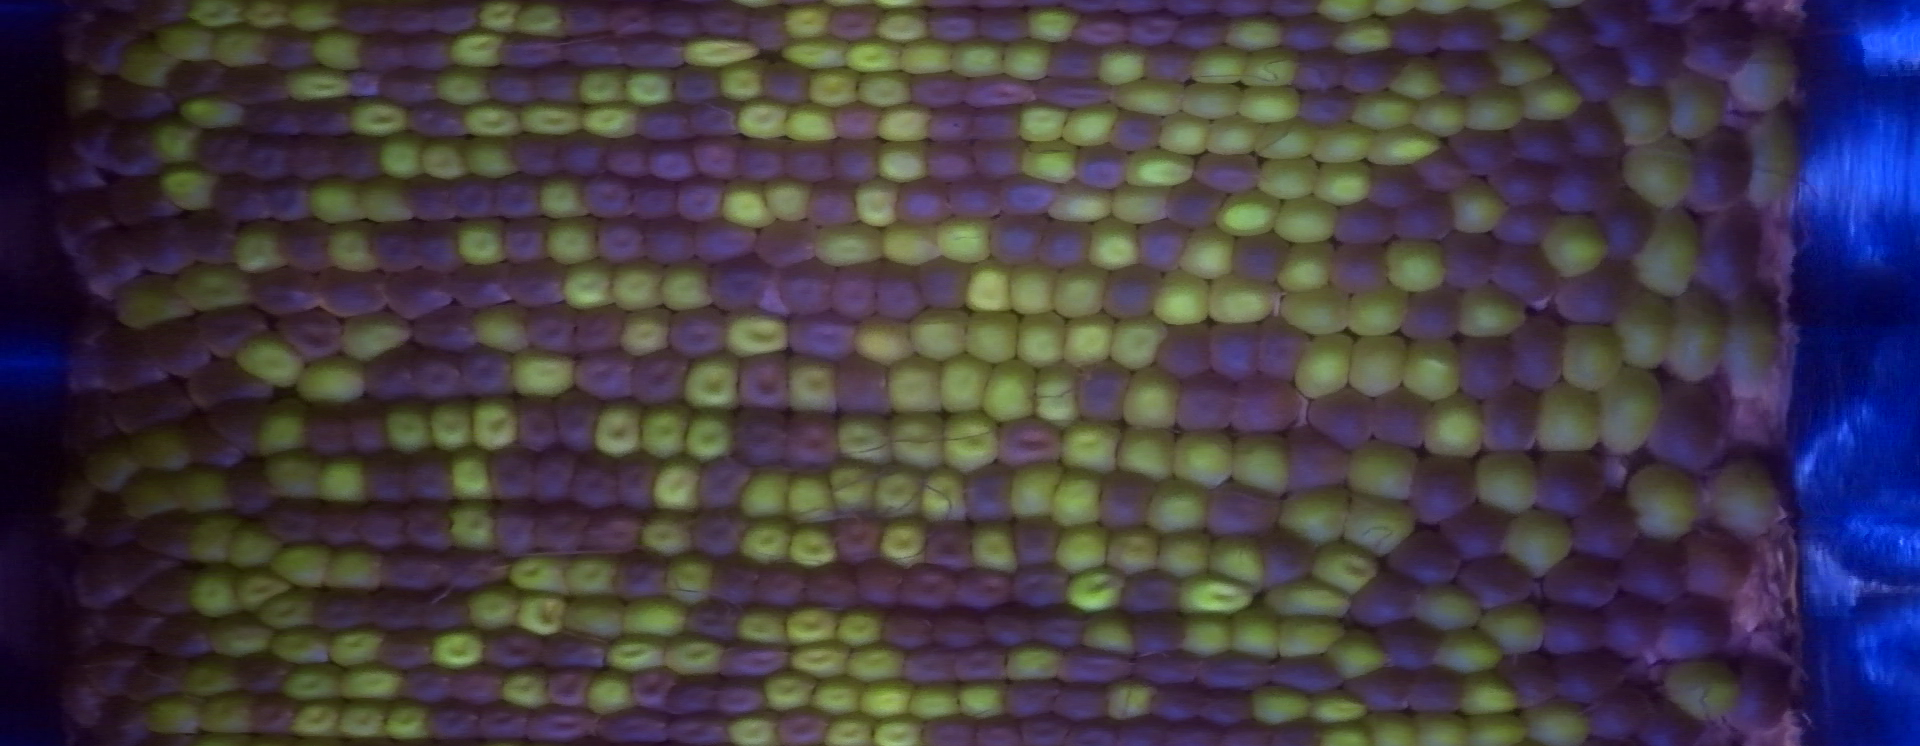fluorescent: (1704, 451, 1785, 545), (1622, 457, 1711, 543), (1633, 206, 1709, 300), (1735, 111, 1805, 212), (1596, 369, 1665, 462), (1667, 288, 1731, 387), (1340, 488, 1420, 567), (1613, 140, 1700, 212), (1728, 288, 1787, 394), (1729, 34, 1804, 116), (1341, 432, 1424, 505), (1660, 658, 1747, 725), (1411, 390, 1487, 463), (1536, 381, 1608, 458), (1502, 503, 1575, 579), (1613, 289, 1680, 370), (105, 274, 200, 332), (1537, 209, 1611, 282), (1559, 317, 1629, 394), (1664, 69, 1730, 145), (1469, 453, 1543, 521), (1229, 428, 1296, 502), (1272, 484, 1354, 544), (936, 408, 1002, 481), (231, 330, 312, 390), (1603, 85, 1678, 149), (1260, 576, 1360, 624), (1116, 364, 1185, 432), (1111, 418, 1180, 486), (1275, 283, 1360, 338), (1346, 332, 1411, 404), (1167, 430, 1245, 489), (504, 342, 582, 401), (1398, 338, 1469, 402), (1307, 538, 1382, 595), (1142, 477, 1213, 538), (1381, 234, 1452, 295), (1453, 279, 1527, 338), (1362, 121, 1447, 171), (289, 355, 369, 409), (882, 410, 950, 473), (587, 393, 648, 463), (168, 263, 255, 312), (932, 352, 997, 416), (1444, 173, 1511, 235), (1026, 360, 1086, 430), (721, 305, 793, 363), (70, 437, 147, 491), (1149, 267, 1213, 331), (978, 359, 1041, 425), (1473, 601, 1548, 657), (262, 541, 338, 595), (1318, 628, 1393, 682), (1198, 533, 1270, 589), (907, 303, 972, 365), (1059, 412, 1122, 477), (313, 450, 375, 516), (958, 307, 1025, 367), (1205, 271, 1280, 325), (334, 312, 418, 360), (883, 356, 949, 416), (1273, 236, 1342, 294), (1453, 668, 1528, 720), (680, 353, 743, 414), (1106, 312, 1171, 372), (1048, 464, 1107, 530), (1047, 265, 1116, 321), (660, 628, 730, 684), (553, 590, 632, 639), (847, 314, 918, 367), (1168, 576, 1260, 617), (1509, 77, 1591, 124), (1210, 187, 1284, 238), (1007, 458, 1067, 521), (784, 353, 842, 416), (871, 459, 929, 523), (782, 464, 841, 528), (538, 211, 604, 267), (1011, 309, 1067, 376), (126, 425, 196, 478), (680, 404, 740, 465), (1176, 225, 1242, 281), (467, 390, 520, 457), (637, 398, 691, 465), (424, 394, 481, 457), (1294, 337, 1352, 399), (200, 614, 274, 661), (168, 462, 234, 516), (1075, 608, 1141, 661), (1429, 627, 1510, 671), (1344, 285, 1412, 338), (320, 541, 388, 593), (718, 174, 779, 232), (616, 305, 677, 363), (1411, 582, 1484, 630), (1518, 698, 1592, 746), (876, 218, 947, 267), (1003, 263, 1062, 322), (1051, 521, 1109, 579), (1271, 197, 1343, 245), (358, 173, 419, 229), (834, 412, 896, 467), (918, 465, 972, 529), (264, 450, 328, 503), (838, 642, 911, 688), (1244, 680, 1318, 726), (1102, 526, 1168, 577), (1275, 610, 1349, 655), (650, 454, 708, 513), (1082, 217, 1144, 272), (257, 394, 311, 457), (109, 472, 178, 521), (266, 624, 342, 668), (1013, 138, 1082, 186), (1062, 563, 1128, 614), (662, 551, 721, 608), (733, 514, 793, 570), (157, 164, 224, 213), (184, 510, 245, 563), (471, 303, 534, 355), (878, 512, 931, 575), (1462, 88, 1531, 136), (1309, 158, 1378, 206), (1117, 148, 1198, 189), (655, 262, 720, 312), (230, 219, 288, 276), (966, 521, 1024, 577), (616, 593, 689, 637), (1226, 606, 1284, 661), (560, 258, 620, 312), (444, 496, 498, 556), (558, 551, 629, 597), (1305, 118, 1378, 162), (823, 459, 880, 514), (175, 93, 253, 134), (1185, 44, 1255, 89), (119, 40, 180, 92), (142, 118, 203, 169), (1042, 183, 1116, 225), (307, 174, 369, 225), (230, 568, 298, 615), (457, 138, 528, 183), (778, 601, 849, 646), (849, 175, 904, 232), (610, 258, 666, 314), (1060, 314, 1116, 370), (1150, 529, 1211, 579), (465, 581, 527, 631), (1103, 78, 1187, 115), (193, 688, 256, 737), (1348, 89, 1422, 131), (1000, 639, 1068, 685), (507, 549, 571, 597), (381, 401, 437, 454), (738, 462, 795, 516), (451, 216, 509, 267), (1236, 81, 1304, 125), (141, 692, 206, 739), (1386, 54, 1451, 100), (811, 224, 885, 265), (1487, 45, 1561, 86), (1176, 611, 1236, 661), (1155, 111, 1216, 160), (944, 36, 1010, 81), (853, 676, 920, 722), (1177, 77, 1247, 120), (782, 524, 845, 572), (936, 216, 996, 265), (1251, 118, 1320, 160), (1460, 706, 1532, 746), (997, 38, 1059, 85), (601, 631, 671, 673), (1255, 156, 1322, 198), (495, 665, 558, 710), (326, 696, 389, 741), (280, 66, 359, 103), (535, 171, 594, 220), (224, 521, 283, 570), (867, 140, 932, 184), (962, 263, 1018, 315), (253, 590, 320, 633), (1059, 102, 1122, 147), (429, 627, 491, 673), (1491, 1, 1559, 43), (323, 229, 383, 276), (760, 668, 820, 714), (1411, 92, 1471, 138), (349, 97, 410, 142), (1104, 676, 1160, 726), (152, 23, 218, 65), (324, 626, 391, 668), (680, 36, 759, 70), (446, 29, 509, 72), (789, 641, 852, 684), (1307, 684, 1370, 726), (780, 102, 840, 147), (378, 129, 429, 183), (178, 659, 242, 701), (187, 570, 242, 619), (1202, 110, 1258, 159), (1222, 12, 1291, 51), (830, 600, 888, 647), (516, 99, 588, 136), (211, 29, 274, 71), (448, 450, 497, 503), (1108, 185, 1173, 225), (1015, 99, 1071, 146), (584, 670, 640, 717), (276, 668, 347, 704), (731, 99, 793, 141), (58, 70, 107, 122), (1021, 5, 1081, 48), (511, 594, 571, 637), (574, 60, 629, 107), (809, 673, 866, 718), (309, 29, 370, 71), (802, 69, 861, 111), (640, 512, 696, 557), (907, 680, 962, 725), (432, 67, 496, 107), (333, 668, 410, 699), (760, 176, 813, 223), (873, 104, 936, 143), (716, 60, 771, 104), (578, 104, 644, 141), (458, 102, 524, 138), (1243, 49, 1303, 89), (953, 680, 1010, 722), (382, 699, 433, 746), (1359, 710, 1427, 746), (1329, 20, 1393, 56), (1093, 45, 1149, 88), (782, 4, 836, 47), (735, 603, 789, 646), (516, 1, 571, 43), (851, 72, 913, 109), (416, 141, 474, 180), (622, 67, 677, 108), (782, 40, 849, 73), (1413, 708, 1471, 746), (873, 9, 937, 43), (285, 701, 343, 737), (900, 39, 955, 77), (842, 40, 905, 73), (722, 712, 782, 746), (820, 713, 876, 746), (868, 717, 929, 746), (238, 1, 296, 31), (189, 1, 249, 29), (474, 1, 522, 36), (289, 1, 342, 32), (1316, 724, 1384, 746), (1313, 1, 1379, 20), (1368, 1, 1420, 17)
nonfluorescent: (1640, 379, 1725, 477), (1693, 191, 1764, 295), (1400, 451, 1489, 526), (1611, 537, 1695, 614), (1686, 126, 1755, 216), (1656, 588, 1738, 663), (1223, 370, 1311, 436), (1565, 492, 1647, 563), (1163, 369, 1244, 440), (1302, 381, 1380, 452), (198, 391, 277, 461), (1681, 527, 1749, 608), (1597, 587, 1669, 661), (64, 225, 141, 295), (137, 318, 220, 382), (1551, 267, 1643, 325), (1453, 552, 1543, 611), (176, 355, 276, 408), (1734, 654, 1796, 737), (1534, 551, 1627, 606), (1435, 502, 1520, 562), (1506, 312, 1569, 393), (1594, 189, 1660, 265), (1202, 481, 1289, 539), (102, 380, 193, 432), (869, 252, 933, 328), (307, 265, 389, 323), (1363, 383, 1433, 452), (727, 401, 795, 472), (1280, 426, 1352, 492), (179, 412, 252, 477), (1682, 16, 1756, 81), (1382, 529, 1467, 586), (1342, 566, 1420, 626), (1473, 387, 1540, 456), (1547, 159, 1625, 218), (94, 321, 168, 383), (1451, 328, 1513, 402), (833, 350, 898, 420), (51, 654, 114, 726), (699, 252, 773, 314), (371, 267, 452, 322), (780, 405, 845, 474), (187, 305, 269, 359), (1555, 40, 1629, 100), (1534, 451, 1603, 514), (268, 307, 349, 361), (683, 507, 758, 565), (1534, 600, 1609, 658), (1201, 315, 1266, 381), (989, 413, 1065, 469), (1255, 646, 1342, 695), (1589, 685, 1662, 744), (1438, 228, 1504, 292), (100, 175, 186, 224), (662, 300, 731, 361), (305, 584, 384, 637), (1550, 650, 1633, 701), (1494, 241, 1559, 305), (62, 387, 132, 446), (496, 256, 572, 310), (920, 512, 984, 575), (1566, 102, 1629, 167), (1153, 321, 1218, 383), (567, 345, 640, 401), (1371, 615, 1445, 670), (564, 446, 624, 513), (550, 386, 609, 454), (126, 220, 197, 277), (533, 627, 618, 674), (1093, 468, 1157, 530), (1400, 283, 1464, 344), (1188, 146, 1265, 197), (353, 497, 420, 556), (1097, 265, 1166, 322), (785, 306, 860, 359), (959, 463, 1022, 524), (771, 255, 836, 315), (69, 546, 133, 606), (631, 343, 689, 409), (827, 257, 883, 326), (1577, 1, 1656, 50), (714, 638, 798, 684), (453, 343, 519, 401), (578, 503, 650, 556), (1005, 559, 1078, 611), (1003, 514, 1070, 571), (1494, 650, 1561, 707), (133, 565, 207, 616), (147, 606, 216, 661), (1190, 649, 1278, 692), (636, 216, 705, 269), (400, 499, 464, 557), (1322, 240, 1393, 293), (988, 212, 1053, 269), (360, 345, 425, 403), (51, 189, 118, 245), (1131, 218, 1198, 274), (313, 492, 380, 549), (276, 220, 343, 276), (1358, 156, 1425, 211), (1164, 178, 1233, 232), (132, 508, 206, 559), (1117, 568, 1190, 619), (822, 513, 891, 566), (1254, 315, 1307, 385), (102, 122, 162, 184), (1231, 232, 1297, 287), (250, 265, 322, 315), (260, 497, 332, 548), (509, 706, 605, 744), (218, 62, 298, 108), (380, 545, 459, 590), (915, 254, 975, 314), (1449, 127, 1522, 176), (754, 218, 824, 269), (607, 447, 664, 511), (1513, 114, 1577, 170), (208, 171, 274, 225), (407, 307, 487, 352), (1341, 669, 1417, 715), (696, 454, 754, 514), (1120, 608, 1195, 654), (1056, 646, 1139, 687), (355, 446, 414, 505), (520, 298, 580, 355), (1074, 363, 1134, 420), (1403, 664, 1467, 718), (1331, 48, 1411, 91), (898, 561, 964, 612), (1389, 187, 1455, 239), (1483, 162, 1554, 209), (444, 261, 512, 311), (1622, 29, 1682, 86), (93, 77, 176, 118), (693, 218, 762, 267), (909, 646, 978, 693), (1436, 51, 1502, 102), (219, 457, 278, 513), (484, 447, 542, 503), (733, 352, 793, 407), (993, 167, 1060, 216), (531, 448, 585, 510), (751, 559, 812, 612), (568, 303, 631, 355), (344, 397, 397, 459), (92, 693, 154, 746), (1029, 600, 1093, 650), (1490, 197, 1555, 247), (1326, 196, 1396, 243), (411, 217, 469, 273), (509, 393, 564, 452), (684, 597, 751, 646), (802, 176, 863, 229), (940, 173, 1008, 220), (709, 556, 771, 608), (955, 72, 1040, 110), (451, 549, 519, 595), (950, 563, 1015, 612), (853, 557, 909, 615), (1069, 6, 1135, 54), (487, 499, 539, 560), (889, 176, 951, 227), (802, 557, 866, 606), (478, 624, 541, 673), (1433, 10, 1507, 51), (529, 500, 587, 554), (1038, 219, 1100, 269), (609, 548, 670, 598), (1381, 9, 1442, 59), (497, 218, 560, 267), (1288, 47, 1356, 92), (825, 135, 889, 183), (1255, 530, 1311, 584), (371, 219, 424, 277), (471, 698, 536, 745), (410, 447, 460, 507), (1637, 701, 1703, 746), (1134, 646, 1204, 688), (1030, 77, 1117, 111), (61, 605, 118, 658), (69, 111, 120, 169), (179, 217, 236, 268), (1527, 17, 1598, 59), (298, 399, 348, 458), (493, 32, 571, 70), (580, 175, 642, 223), (594, 710, 676, 746), (1291, 88, 1360, 130), (1190, 677, 1253, 724), (594, 216, 650, 267), (411, 348, 468, 399), (1073, 143, 1133, 191), (645, 1, 711, 44), (1146, 684, 1209, 729), (1120, 9, 1184, 53), (444, 661, 508, 706), (400, 174, 460, 220), (190, 124, 242, 176), (84, 21, 138, 72), (673, 174, 729, 224), (104, 600, 162, 648), (1047, 36, 1106, 82), (682, 99, 749, 140), (264, 27, 324, 72), (422, 701, 482, 746), (876, 609, 940, 650), (760, 58, 816, 107), (1109, 107, 1166, 154), (981, 605, 1040, 650), (621, 663, 680, 708), (287, 132, 338, 184), (553, 127, 607, 176), (509, 131, 564, 179), (447, 171, 502, 219), (736, 137, 793, 183), (906, 69, 969, 110), (87, 653, 146, 697), (238, 131, 291, 179), (644, 143, 704, 186), (694, 1, 756, 43), (622, 179, 683, 220), (1054, 684, 1116, 725), (692, 138, 749, 183), (246, 693, 304, 737), (560, 33, 631, 69), (495, 173, 546, 222), (264, 171, 312, 224), (636, 104, 696, 146), (670, 64, 729, 105), (531, 65, 590, 107), (375, 69, 443, 104), (402, 102, 473, 136), (831, 102, 887, 146), (972, 138, 1027, 183), (924, 606, 986, 646), (234, 653, 295, 692), (744, 1, 792, 51), (784, 137, 831, 187), (334, 134, 384, 181), (367, 588, 425, 630), (1003, 677, 1060, 719), (920, 710, 987, 746), (599, 134, 653, 178), (924, 2, 987, 40), (247, 96, 310, 134), (1277, 13, 1340, 51), (400, 31, 456, 73), (373, 635, 442, 669), (129, 660, 189, 699), (399, 663, 456, 704), (660, 714, 733, 746), (72, 517, 140, 551), (923, 105, 982, 145), (1142, 43, 1198, 85), (164, 56, 220, 97), (333, 1, 398, 36), (621, 34, 686, 69), (827, 1, 883, 40), (774, 708, 834, 745), (920, 141, 977, 179), (1114, 709, 1178, 744), (547, 668, 596, 712), (664, 677, 726, 712), (977, 7, 1033, 45), (969, 710, 1029, 746), (485, 69, 538, 109), (422, 589, 471, 632), (560, 1, 618, 37), (361, 32, 413, 72), (967, 105, 1024, 142), (954, 649, 1013, 684), (299, 100, 351, 138), (756, 265, 791, 320), (81, 488, 140, 521), (58, 13, 97, 62), (433, 1, 487, 37), (612, 1, 662, 39), (389, 2, 441, 39), (710, 687, 774, 717), (129, 1, 197, 28), (1160, 717, 1222, 746), (1217, 715, 1276, 746), (1015, 714, 1065, 746), (1060, 722, 1120, 746), (1271, 720, 1322, 746), (1258, 1, 1326, 20), (345, 69, 383, 100), (1213, 1, 1271, 22)
